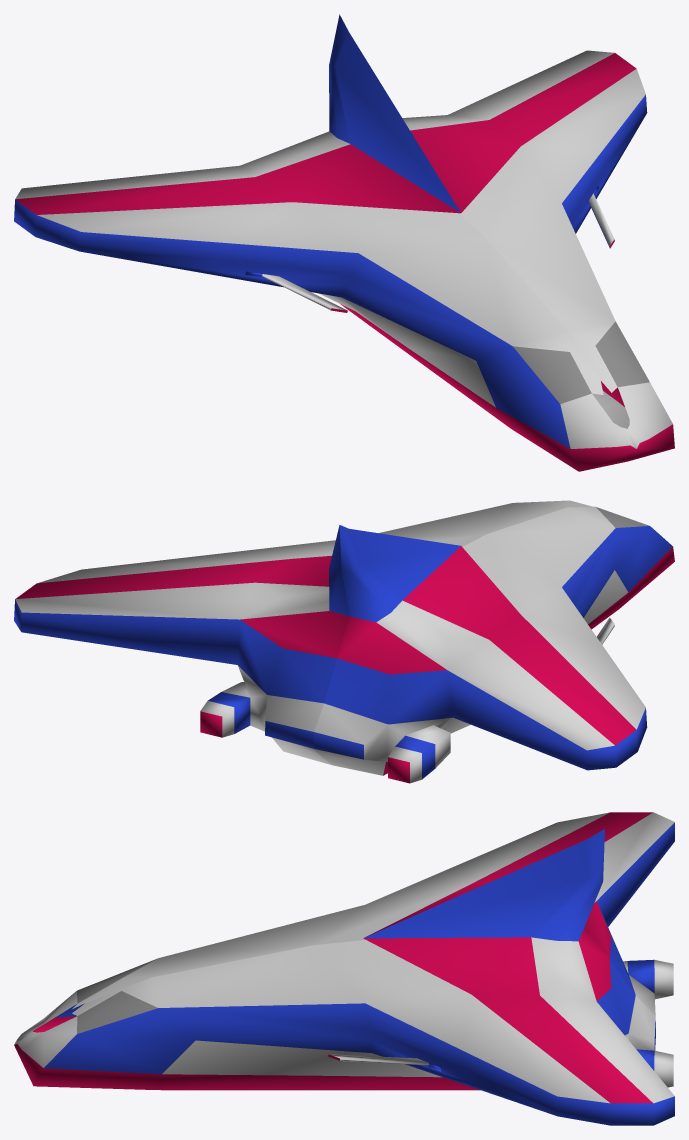
Rendered from SpaceShip3.fbx.
3 views of the same model, one above another, from view 1: azimuth 30°, elevation 25°; view 2: azimuth 150°, elevation 25°; view 3: azimuth 270°, elevation 25° (orthographic).
Parts seen in each view (by area): view 1: Cube; view 2: Cube; view 3: Cube.
Part boxes in pixels (x1,y1,x2,y2): Cube: (14, 14, 674, 471); Cube: (14, 500, 674, 783); Cube: (14, 812, 674, 1125).
Size of the model in its own units: 8.63 by 3.3 by 8.25.
